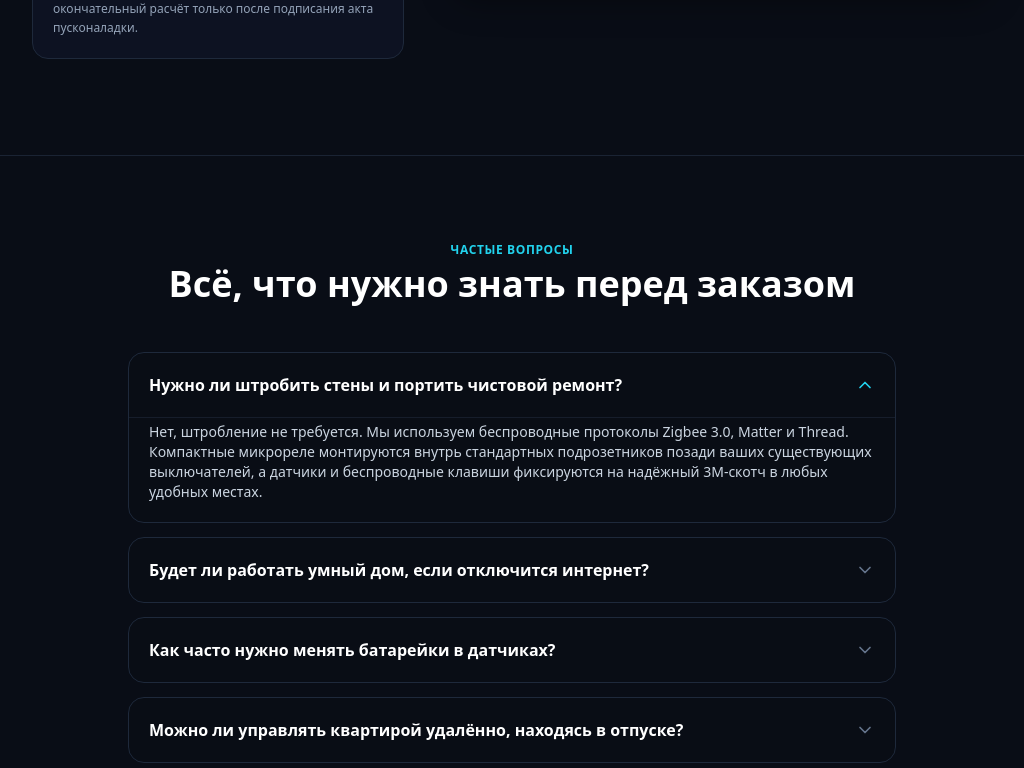
Test case: ContactsPage Component › toggles FAQ accordions on click
(page scrolled)
Check: the text "Нужно ли штробить стены и портить чистовой ремонт?" is shown, box [149,372,622,396]
Check: the text "Нет, штробление не требуется" is shown, box [149,422,872,500]
Note: Click to toggle close
What coordinates should you click on to do the following:
click the button "Нужно ли штробить стены и портить чистовой ремонт?"
I would click on:
 (512, 384)
Its box is [129,352,895,416].
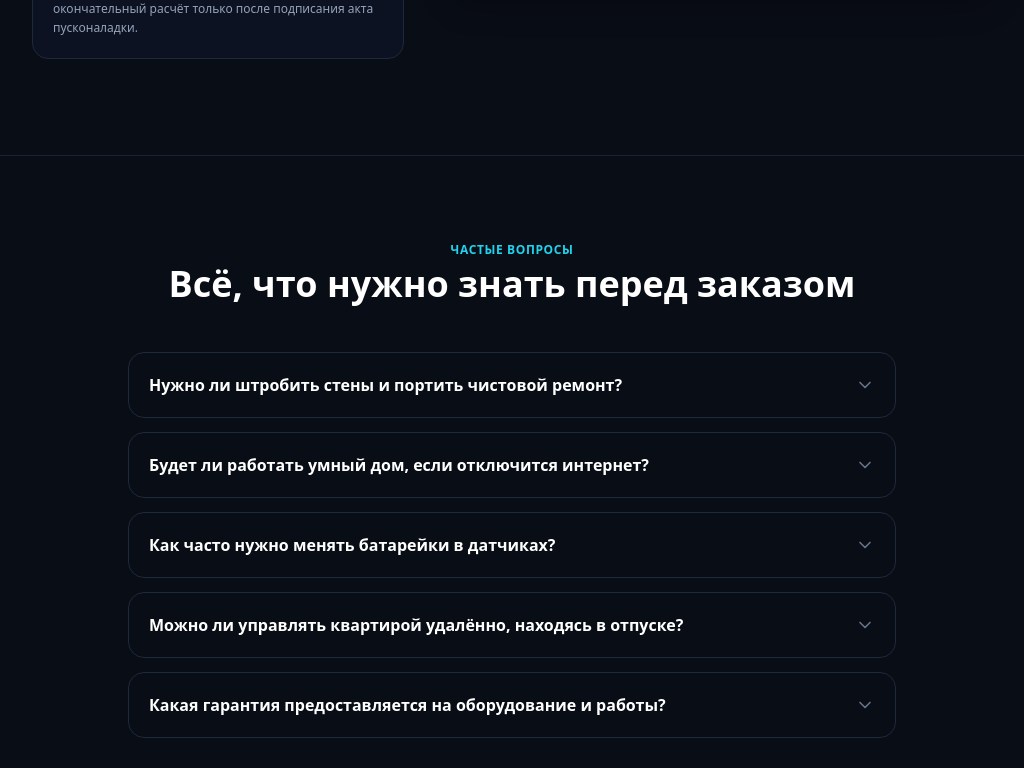
Check: the text "Нет, штробление не требуется" is gone
Note: Click to open again
What coordinates should you click on to do the following:
click the button "Нужно ли штробить стены и портить чистовой ремонт?"
I would click on:
 (512, 384)
Its box is [129,352,895,416].
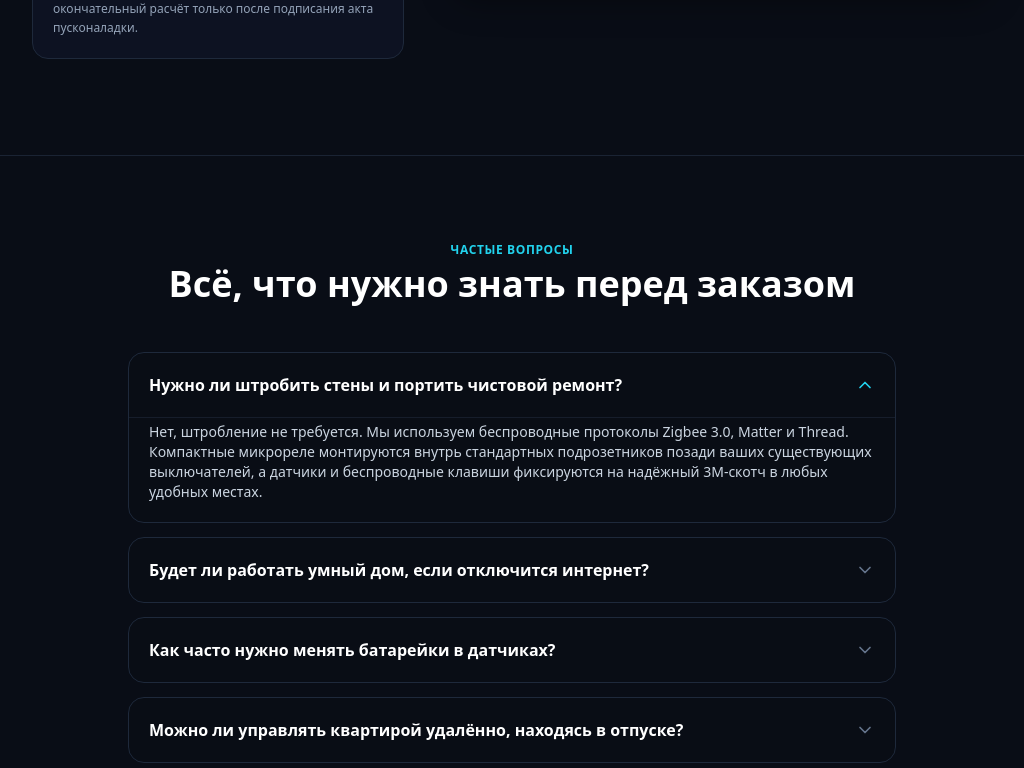
Check: the text "Нет, штробление не требуется" is shown, box [149,422,872,500]
